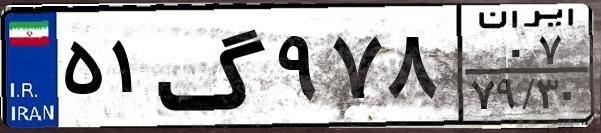0: (560, 70, 590, 125), (508, 27, 537, 80)
1: (110, 28, 156, 98)
3: (535, 70, 560, 125)
5: (57, 26, 110, 100)
7: (330, 28, 385, 110), (537, 27, 568, 80), (470, 70, 495, 125)
8: (385, 28, 445, 110)
9: (270, 28, 330, 110), (495, 70, 520, 125)
گ: (156, 12, 270, 120)
